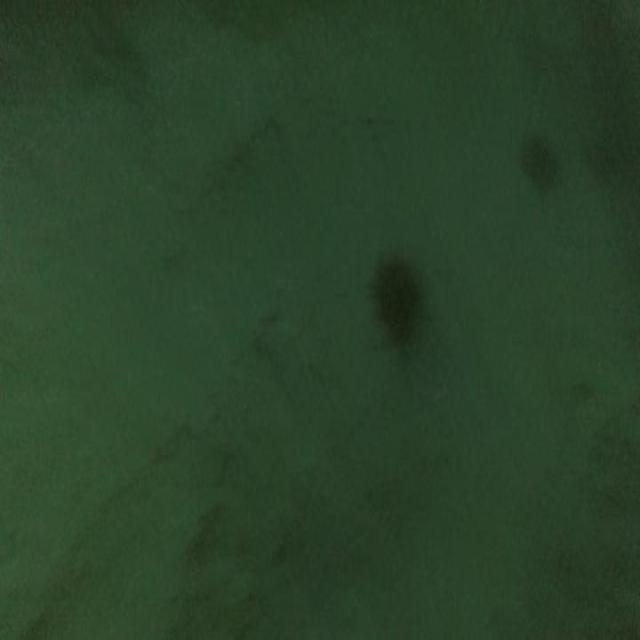echinus: (373, 259, 416, 345), (519, 136, 558, 194)
